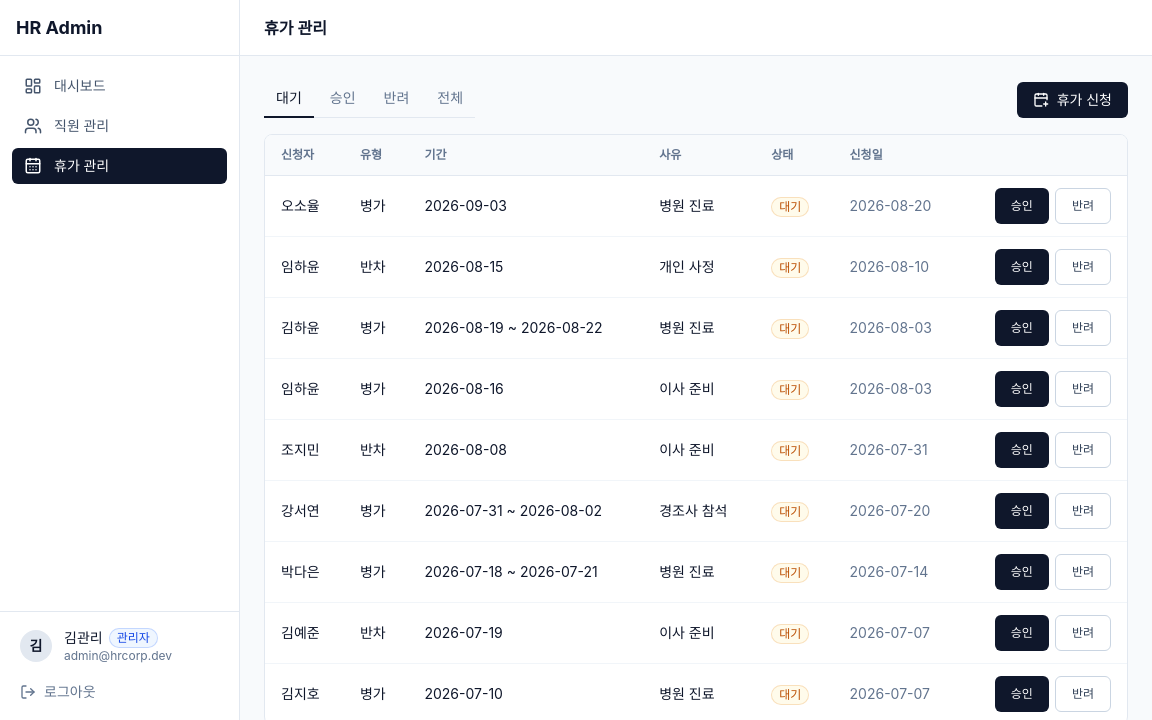
LeavePage 낙관적 업데이트 › 서버 응답 전에 다이얼로그가 닫히고 행 상태가 즉시 바뀐다
This screenshot has width=1152, height=720.
Click the 1st button "승인" at (1022,206), box [995,188,1049,224]
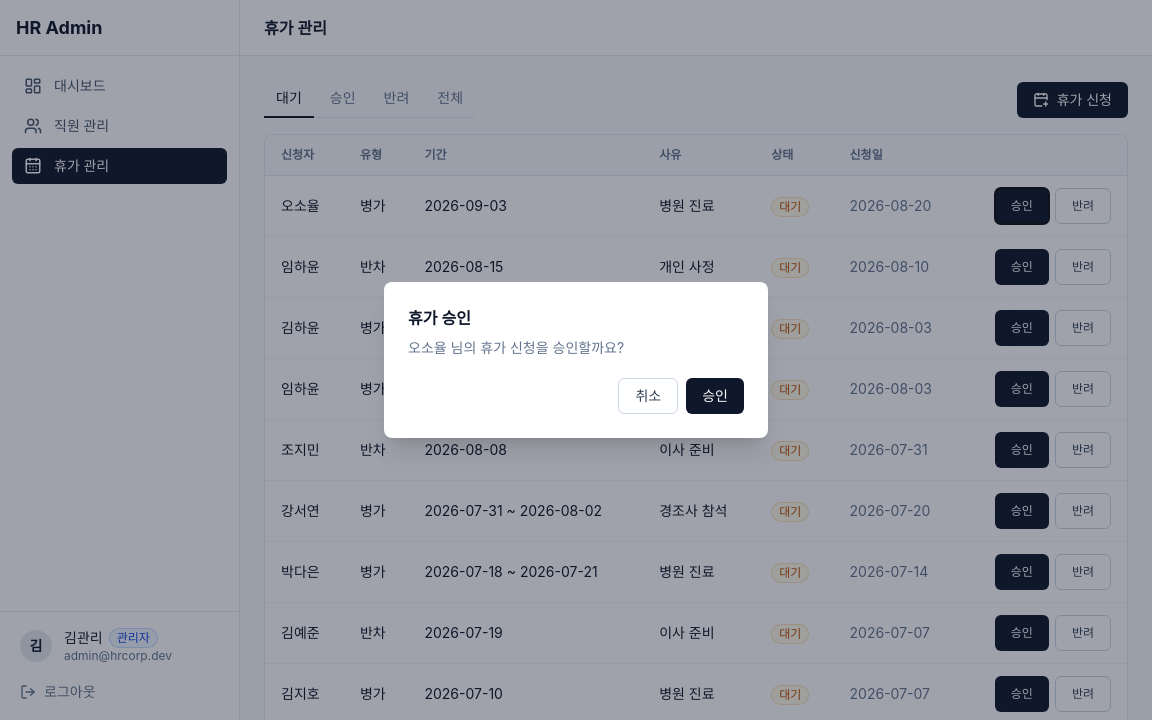
Click the button "승인" at (715,396), box [686,378,744,414]
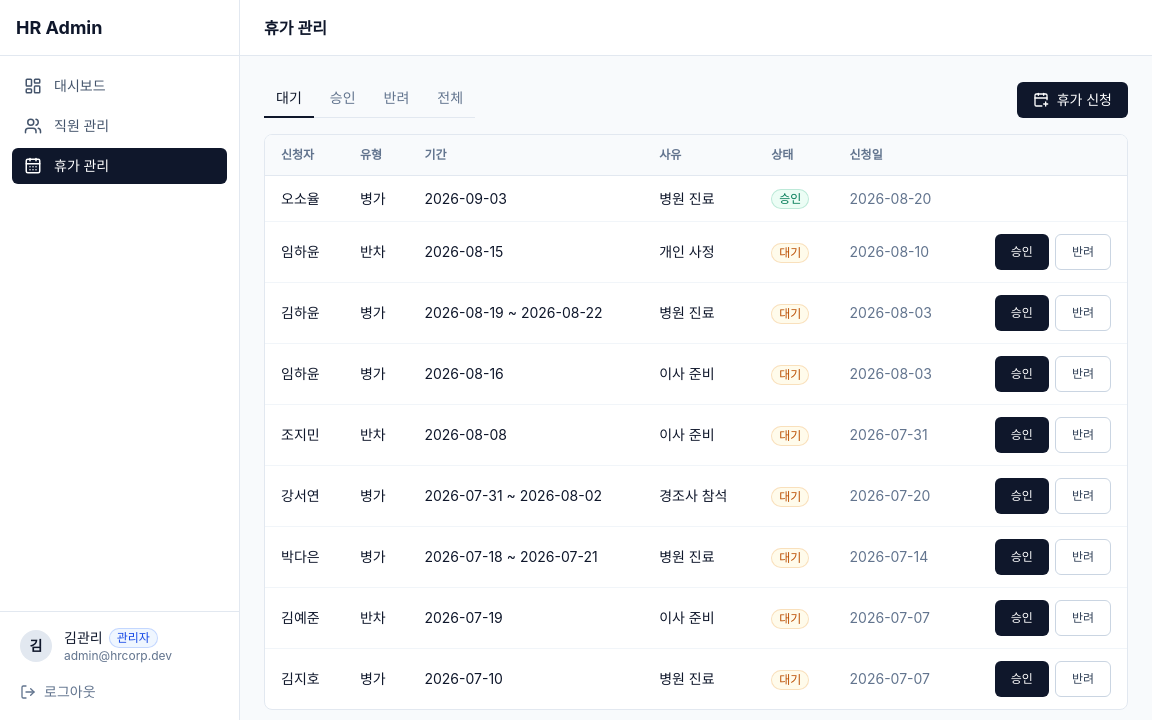
Check: the dialog is gone
Check: the text "승인" is shown, box [771,189,809,209]
